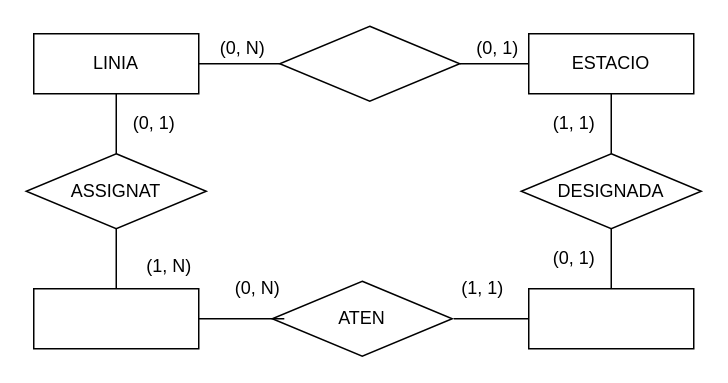
The diagram is 728 pixels wide and 383 high, and some of its shapes have lost their labels. Each missing label, with the centre of its shape:
COMPOSTA: (369,63)
COTXERA: (610,318)
TREN: (115,318)
